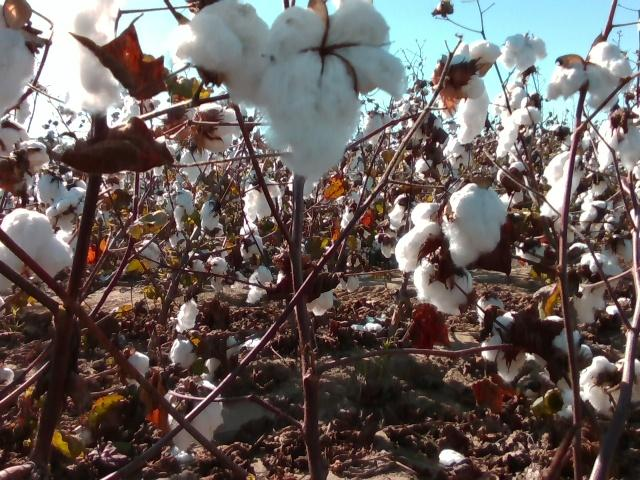cotton_ready: (259, 7, 404, 174), (168, 1, 272, 108), (395, 201, 474, 315), (479, 314, 581, 383), (152, 106, 239, 182), (547, 39, 637, 110), (0, 211, 76, 292), (446, 41, 501, 145), (73, 0, 122, 113), (444, 188, 508, 266), (160, 378, 224, 447), (0, 6, 38, 113), (574, 247, 624, 324), (580, 357, 640, 413), (537, 149, 585, 216), (216, 402, 274, 447), (596, 115, 640, 171), (497, 106, 542, 158), (243, 176, 284, 224), (499, 34, 547, 73), (47, 187, 91, 228), (531, 388, 582, 421), (205, 329, 239, 373), (168, 337, 198, 371), (307, 286, 337, 316)
